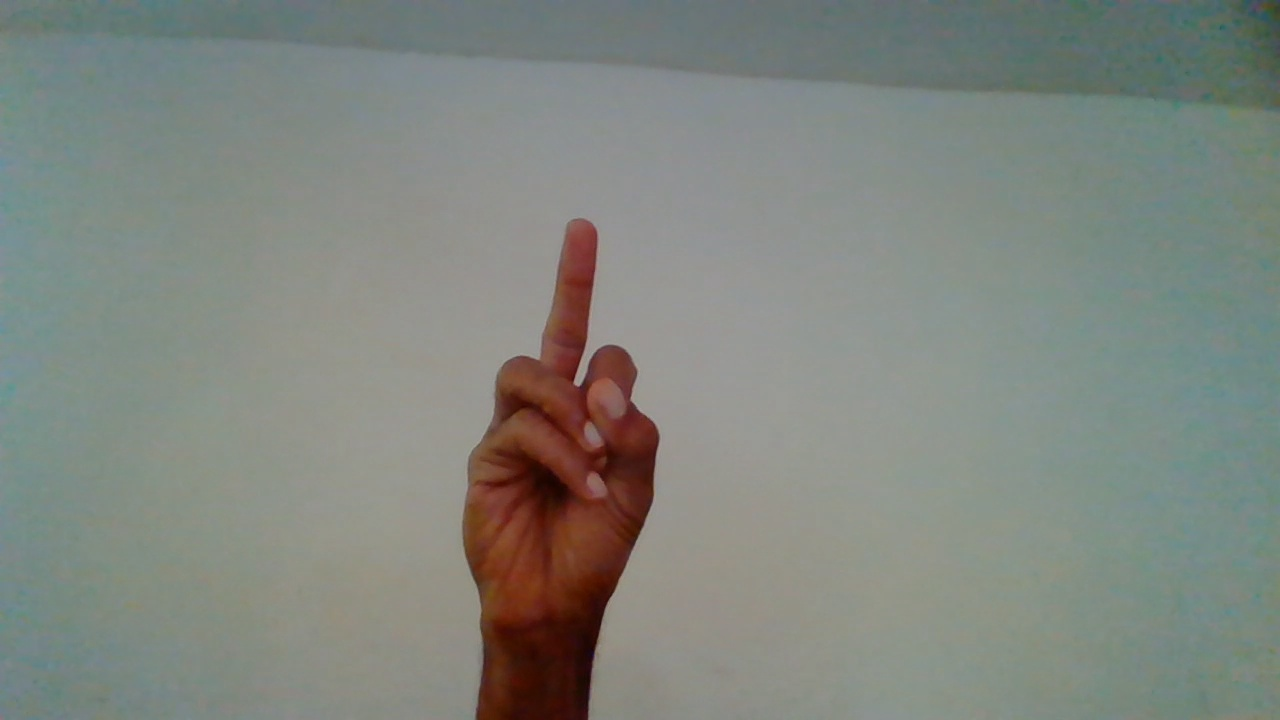he: (447, 211, 665, 705)
